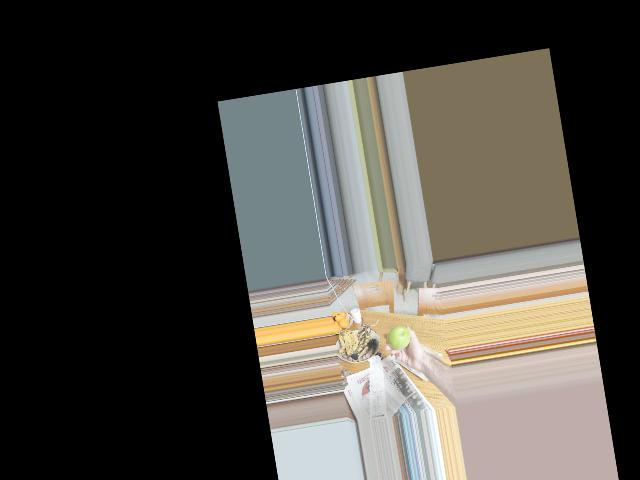apple: (384, 323, 412, 352)
